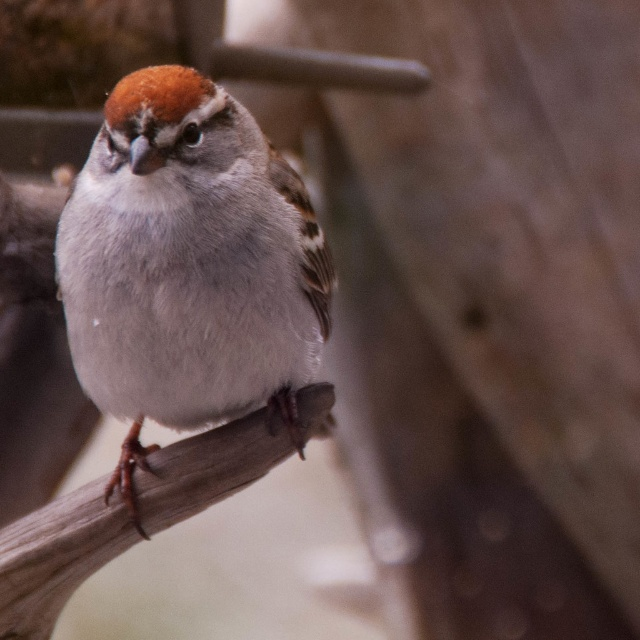Sparrow: (54, 65, 341, 539)
